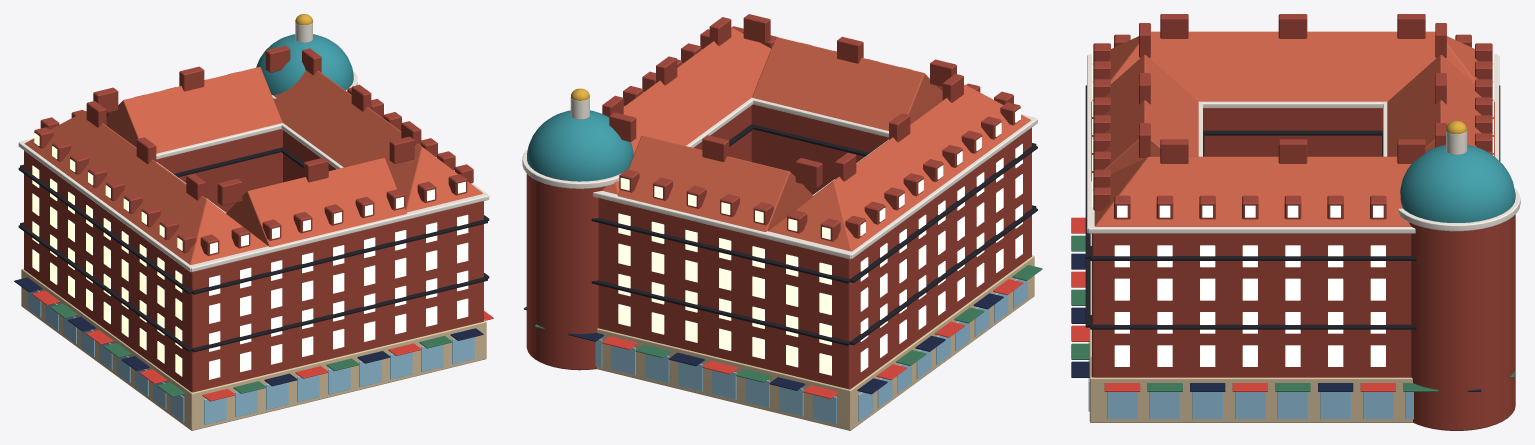
Rendered from city_block_b.glb.
The picture shows the model from 3 angles, left to right: view 1: azimuth 30°, elevation 25°; view 2: azimuth 150°, elevation 25°; view 3: azimuth 270°, elevation 25°; orthographic projection. The views are drawn at different scales.
Parts seen in each view (by area): view 1: city_block_b; view 2: city_block_b; view 3: city_block_b.
Part boxes in pixels (bbox=[...]): city_block_b: bbox=[14, 14, 493, 430]; city_block_b: bbox=[522, 14, 1042, 430]; city_block_b: bbox=[1071, 14, 1520, 430].
Bounding box in the file's own units: 37.88 × 26.52 × 37.9.
Materials: 1 (1 with a texture image).
